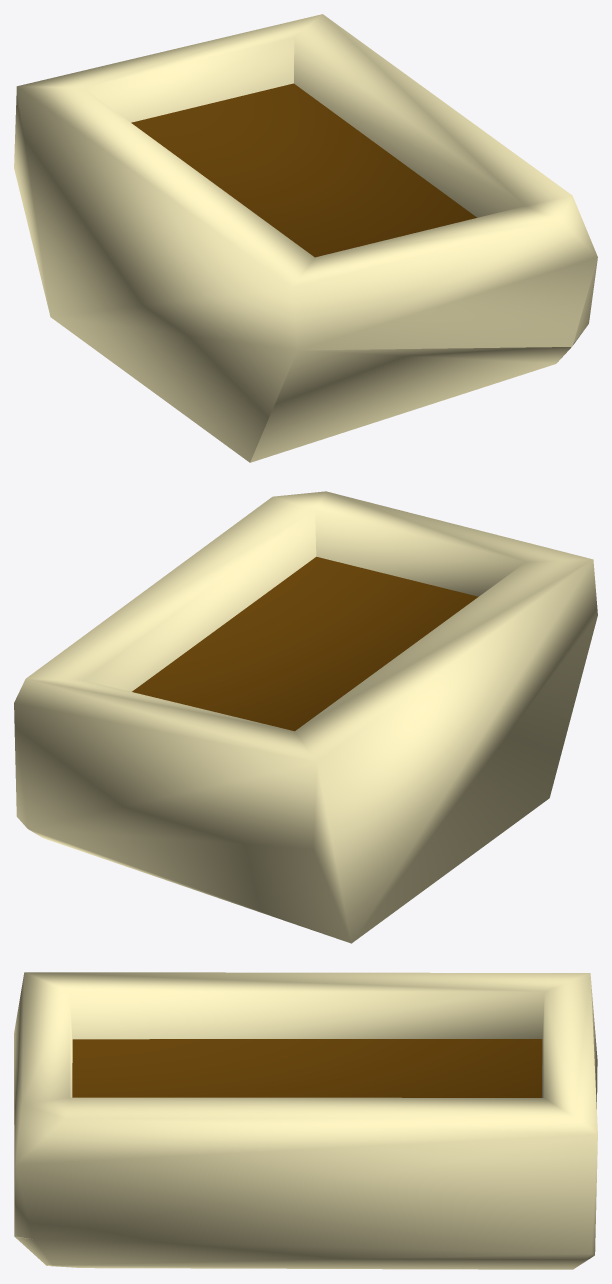
Rendered from Module_Window_Planter_Short_02_LOD02.fbx.
3 renders of one model, top to bottom at view 1: azimuth 30°, elevation 25°; view 2: azimuth 150°, elevation 25°; view 3: azimuth 270°, elevation 25°, orthographic. The views are drawn at different scales.
Visible parts, largest first — view 1: Module_Window_Planter_Short_02_LOD02_Geometry; view 2: Module_Window_Planter_Short_02_LOD02_Geometry; view 3: Module_Window_Planter_Short_02_LOD02_Geometry.
Boxes of the visible parts, x1,y1,x2,y2 form: Module_Window_Planter_Short_02_LOD02_Geometry: (14, 14, 597, 462); Module_Window_Planter_Short_02_LOD02_Geometry: (14, 491, 597, 943); Module_Window_Planter_Short_02_LOD02_Geometry: (14, 972, 597, 1269).
Bounding box in the file's own units: 0.6504 × 0.4355 × 1.06.
